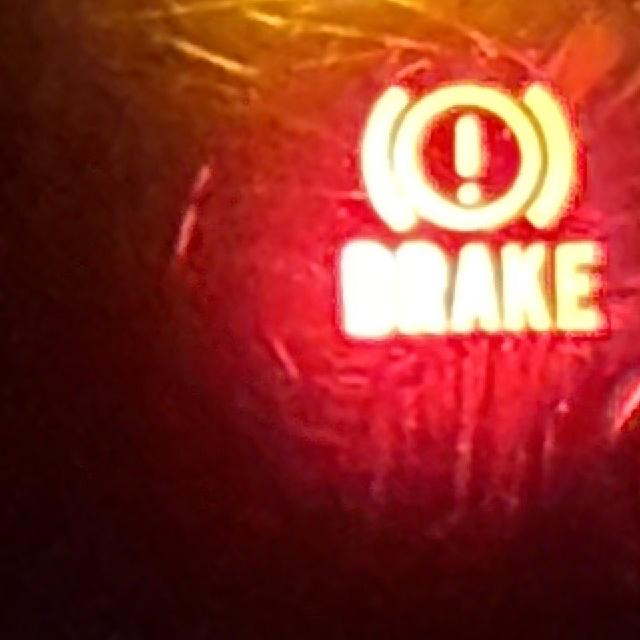Break System Issue: (331, 75, 613, 351)
